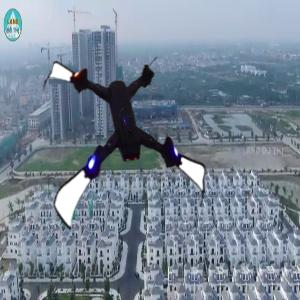drone: (42, 55, 218, 231)
